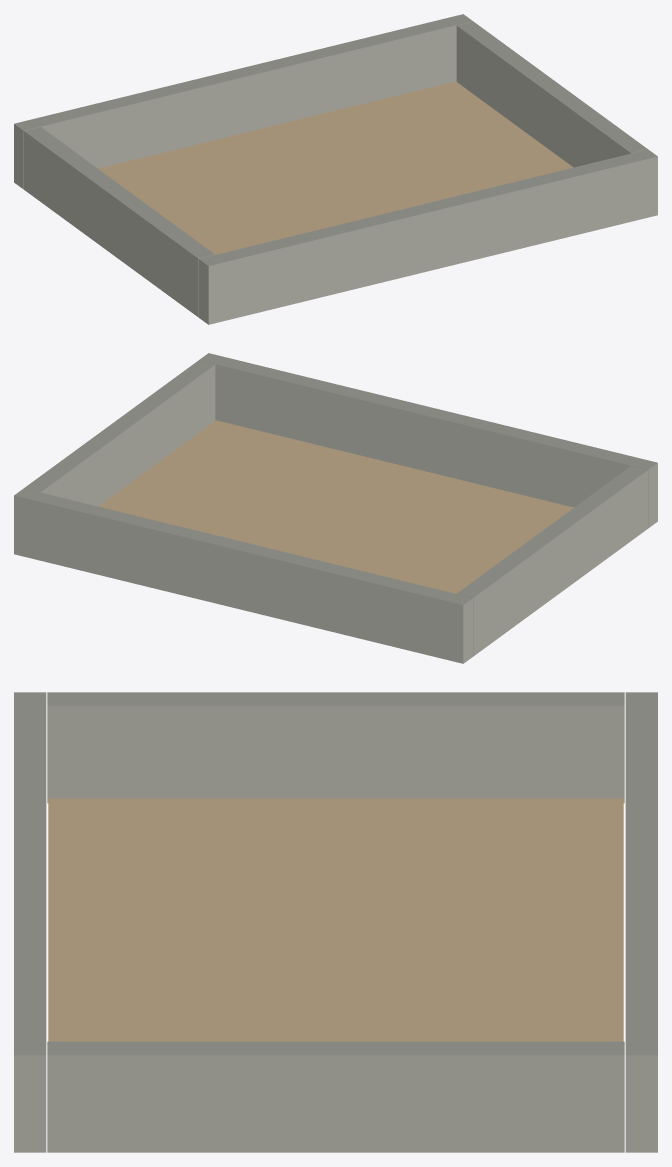
File: SM_Balsa_v2_Vacia_LOD1.fbx
3 views of the same model, one above another, from view 1: azimuth 30°, elevation 25°; view 2: azimuth 150°, elevation 25°; view 3: azimuth 270°, elevation 25° (orthographic). The views are drawn at different scales.
Visible parts, largest first — view 1: SM_huerta_nules_v12_LOD1; view 2: SM_huerta_nules_v12_LOD1; view 3: SM_huerta_nules_v12_LOD1.
Boxes of the visible parts, left/top/right/bottom form: SM_huerta_nules_v12_LOD1: left=14, top=14, right=657, bottom=324; SM_huerta_nules_v12_LOD1: left=14, top=353, right=657, bottom=663; SM_huerta_nules_v12_LOD1: left=14, top=692, right=657, bottom=1152.
Size of the model in its own units: 8 by 1 by 6.
